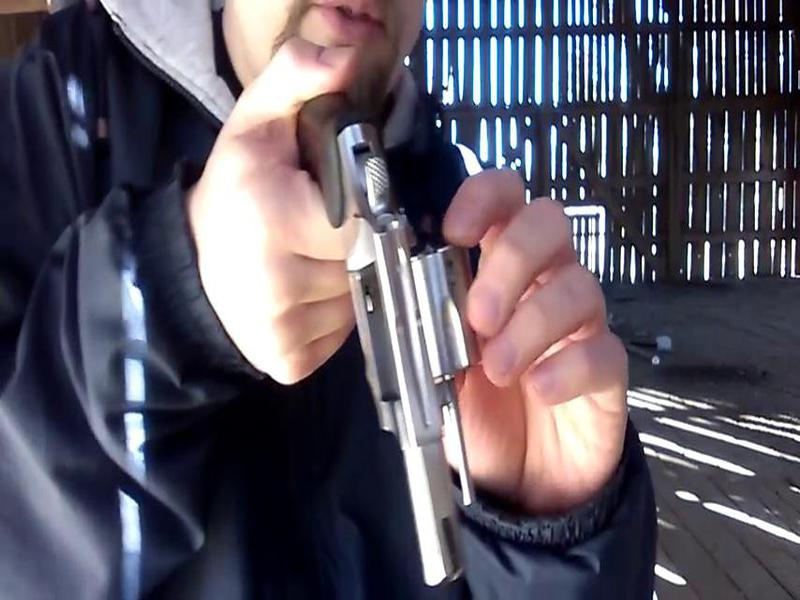Revolver: (298, 90, 530, 600)
